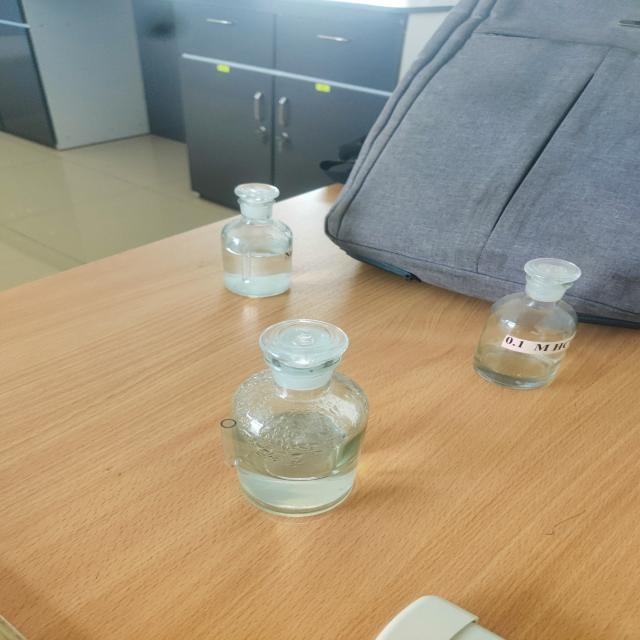Reagent_Bottle: (184, 299, 406, 536), (465, 231, 596, 408), (212, 156, 324, 312)
